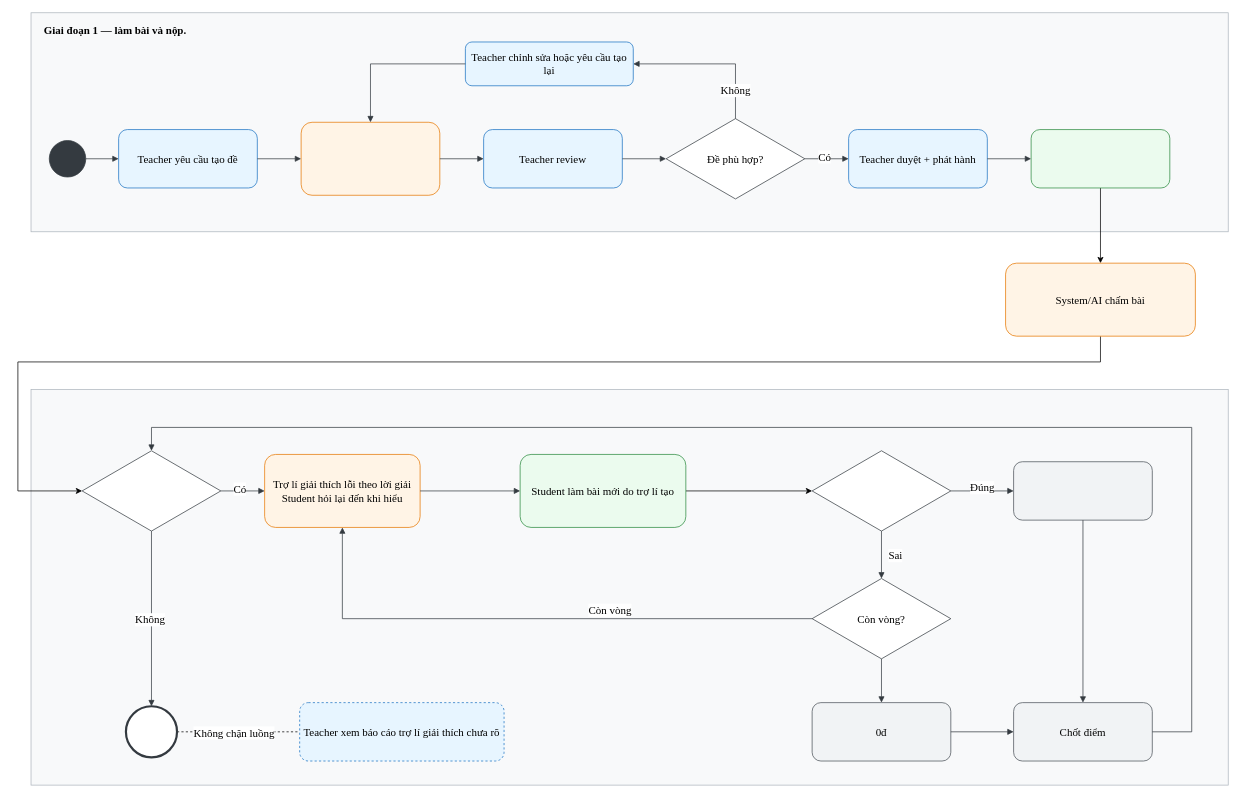
Some shapes in this 1241 by 798 pixel diagram are drawn without their labels. The shapes that lost their labels are listed below. From the top down, each one's box as (x1, y1, x2, y2) in pixels, then its label:
(300, 122, 440, 195): System/AI sinh đề nháp: câu hỏi + đáp án + lời giải
(1030, 129, 1170, 188): Student làm + nộp bài
(81, 450, 221, 531): Còn câu sai chưa chốt?
(811, 450, 951, 531): Từng câu: đúng?
(1013, 461, 1152, 520): 0,5đ
(30, 389, 1228, 785): Giai đoạn 2 — chữa bài.
